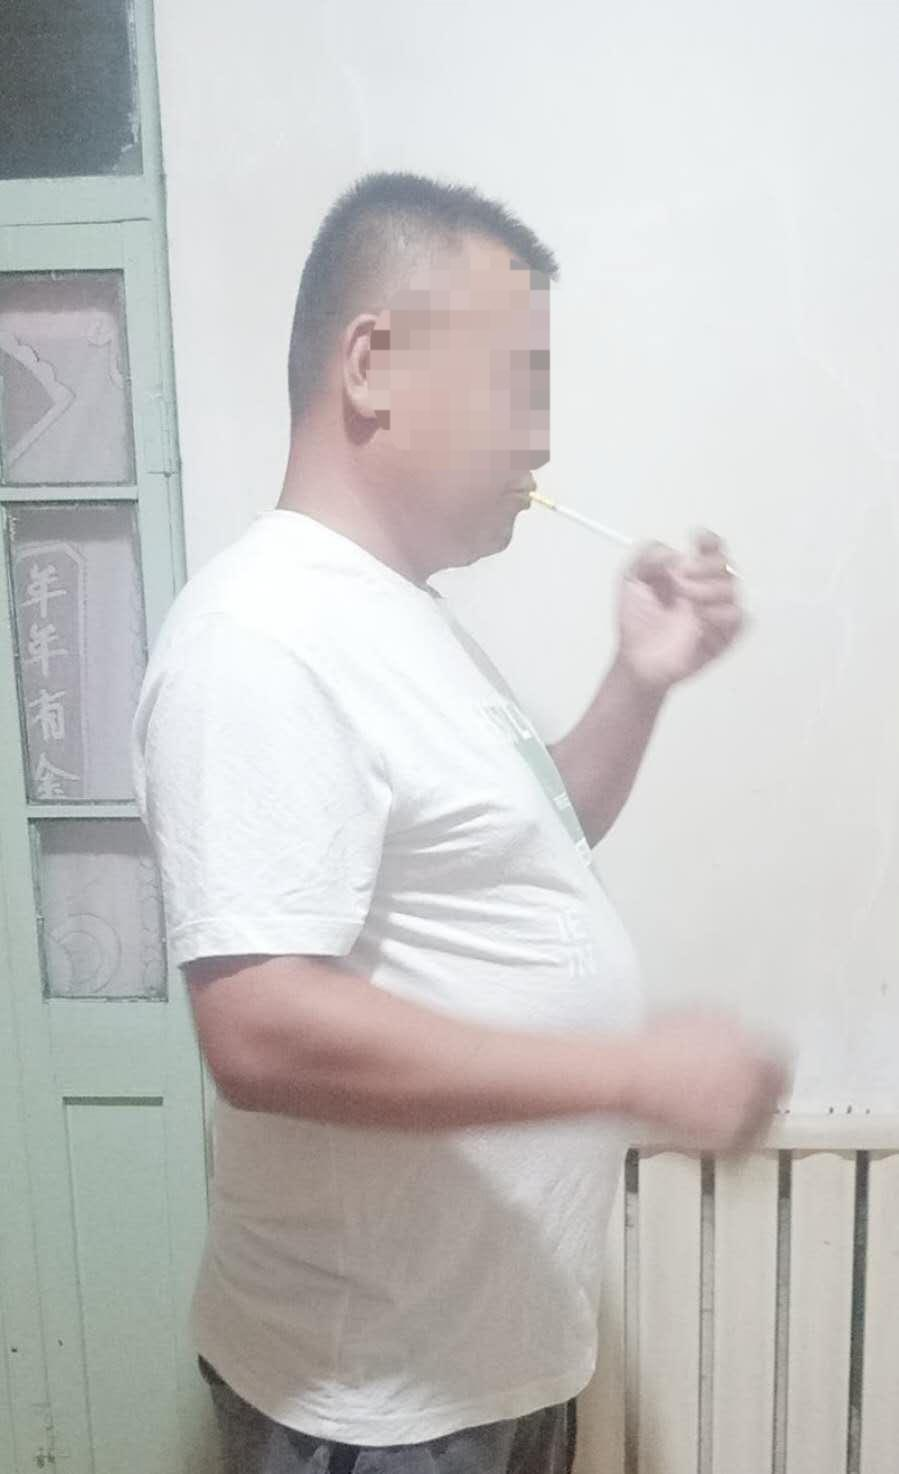smoke: (531, 497, 633, 557)
